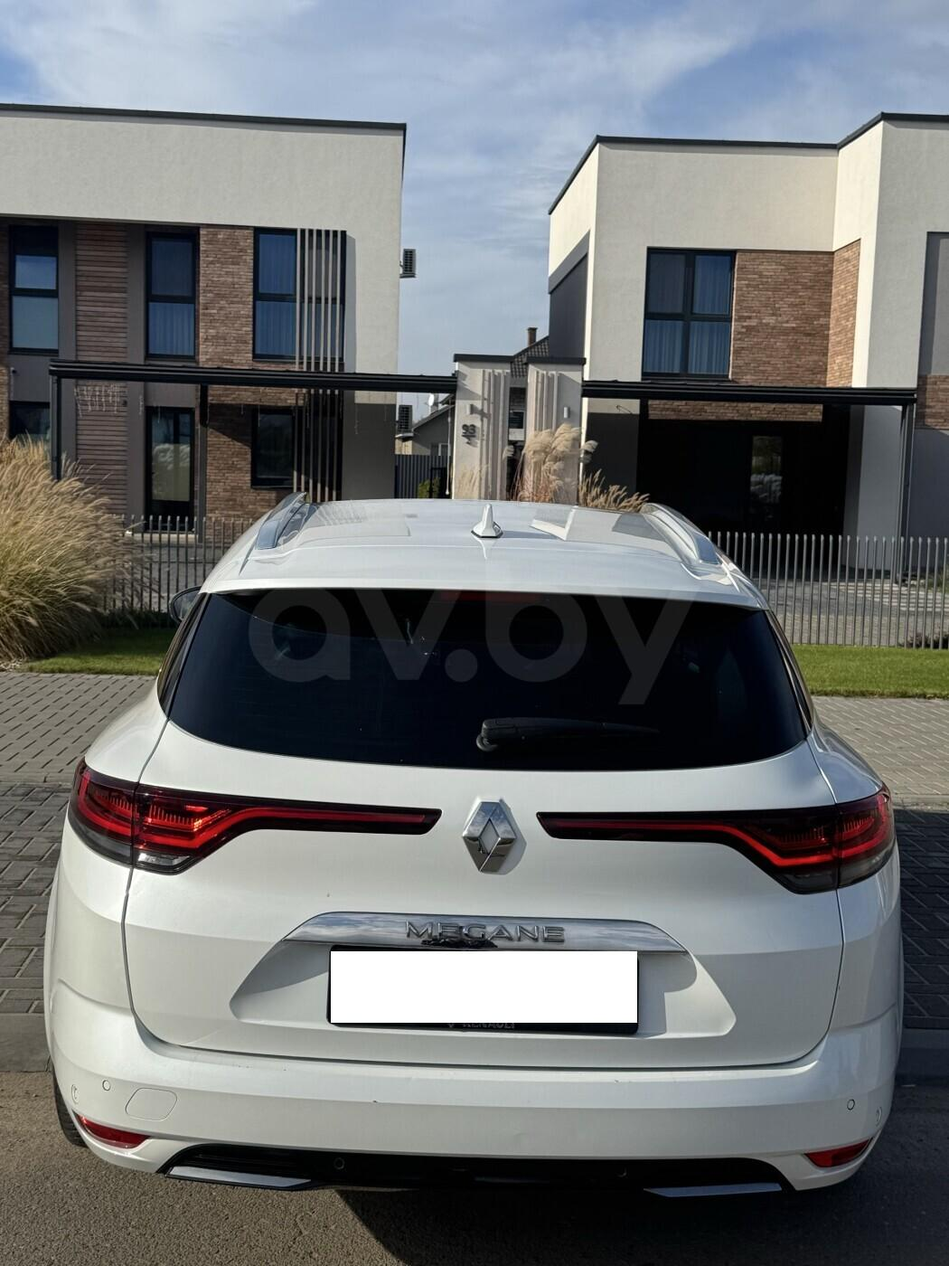Megane_2020: (36, 483, 911, 1228)
